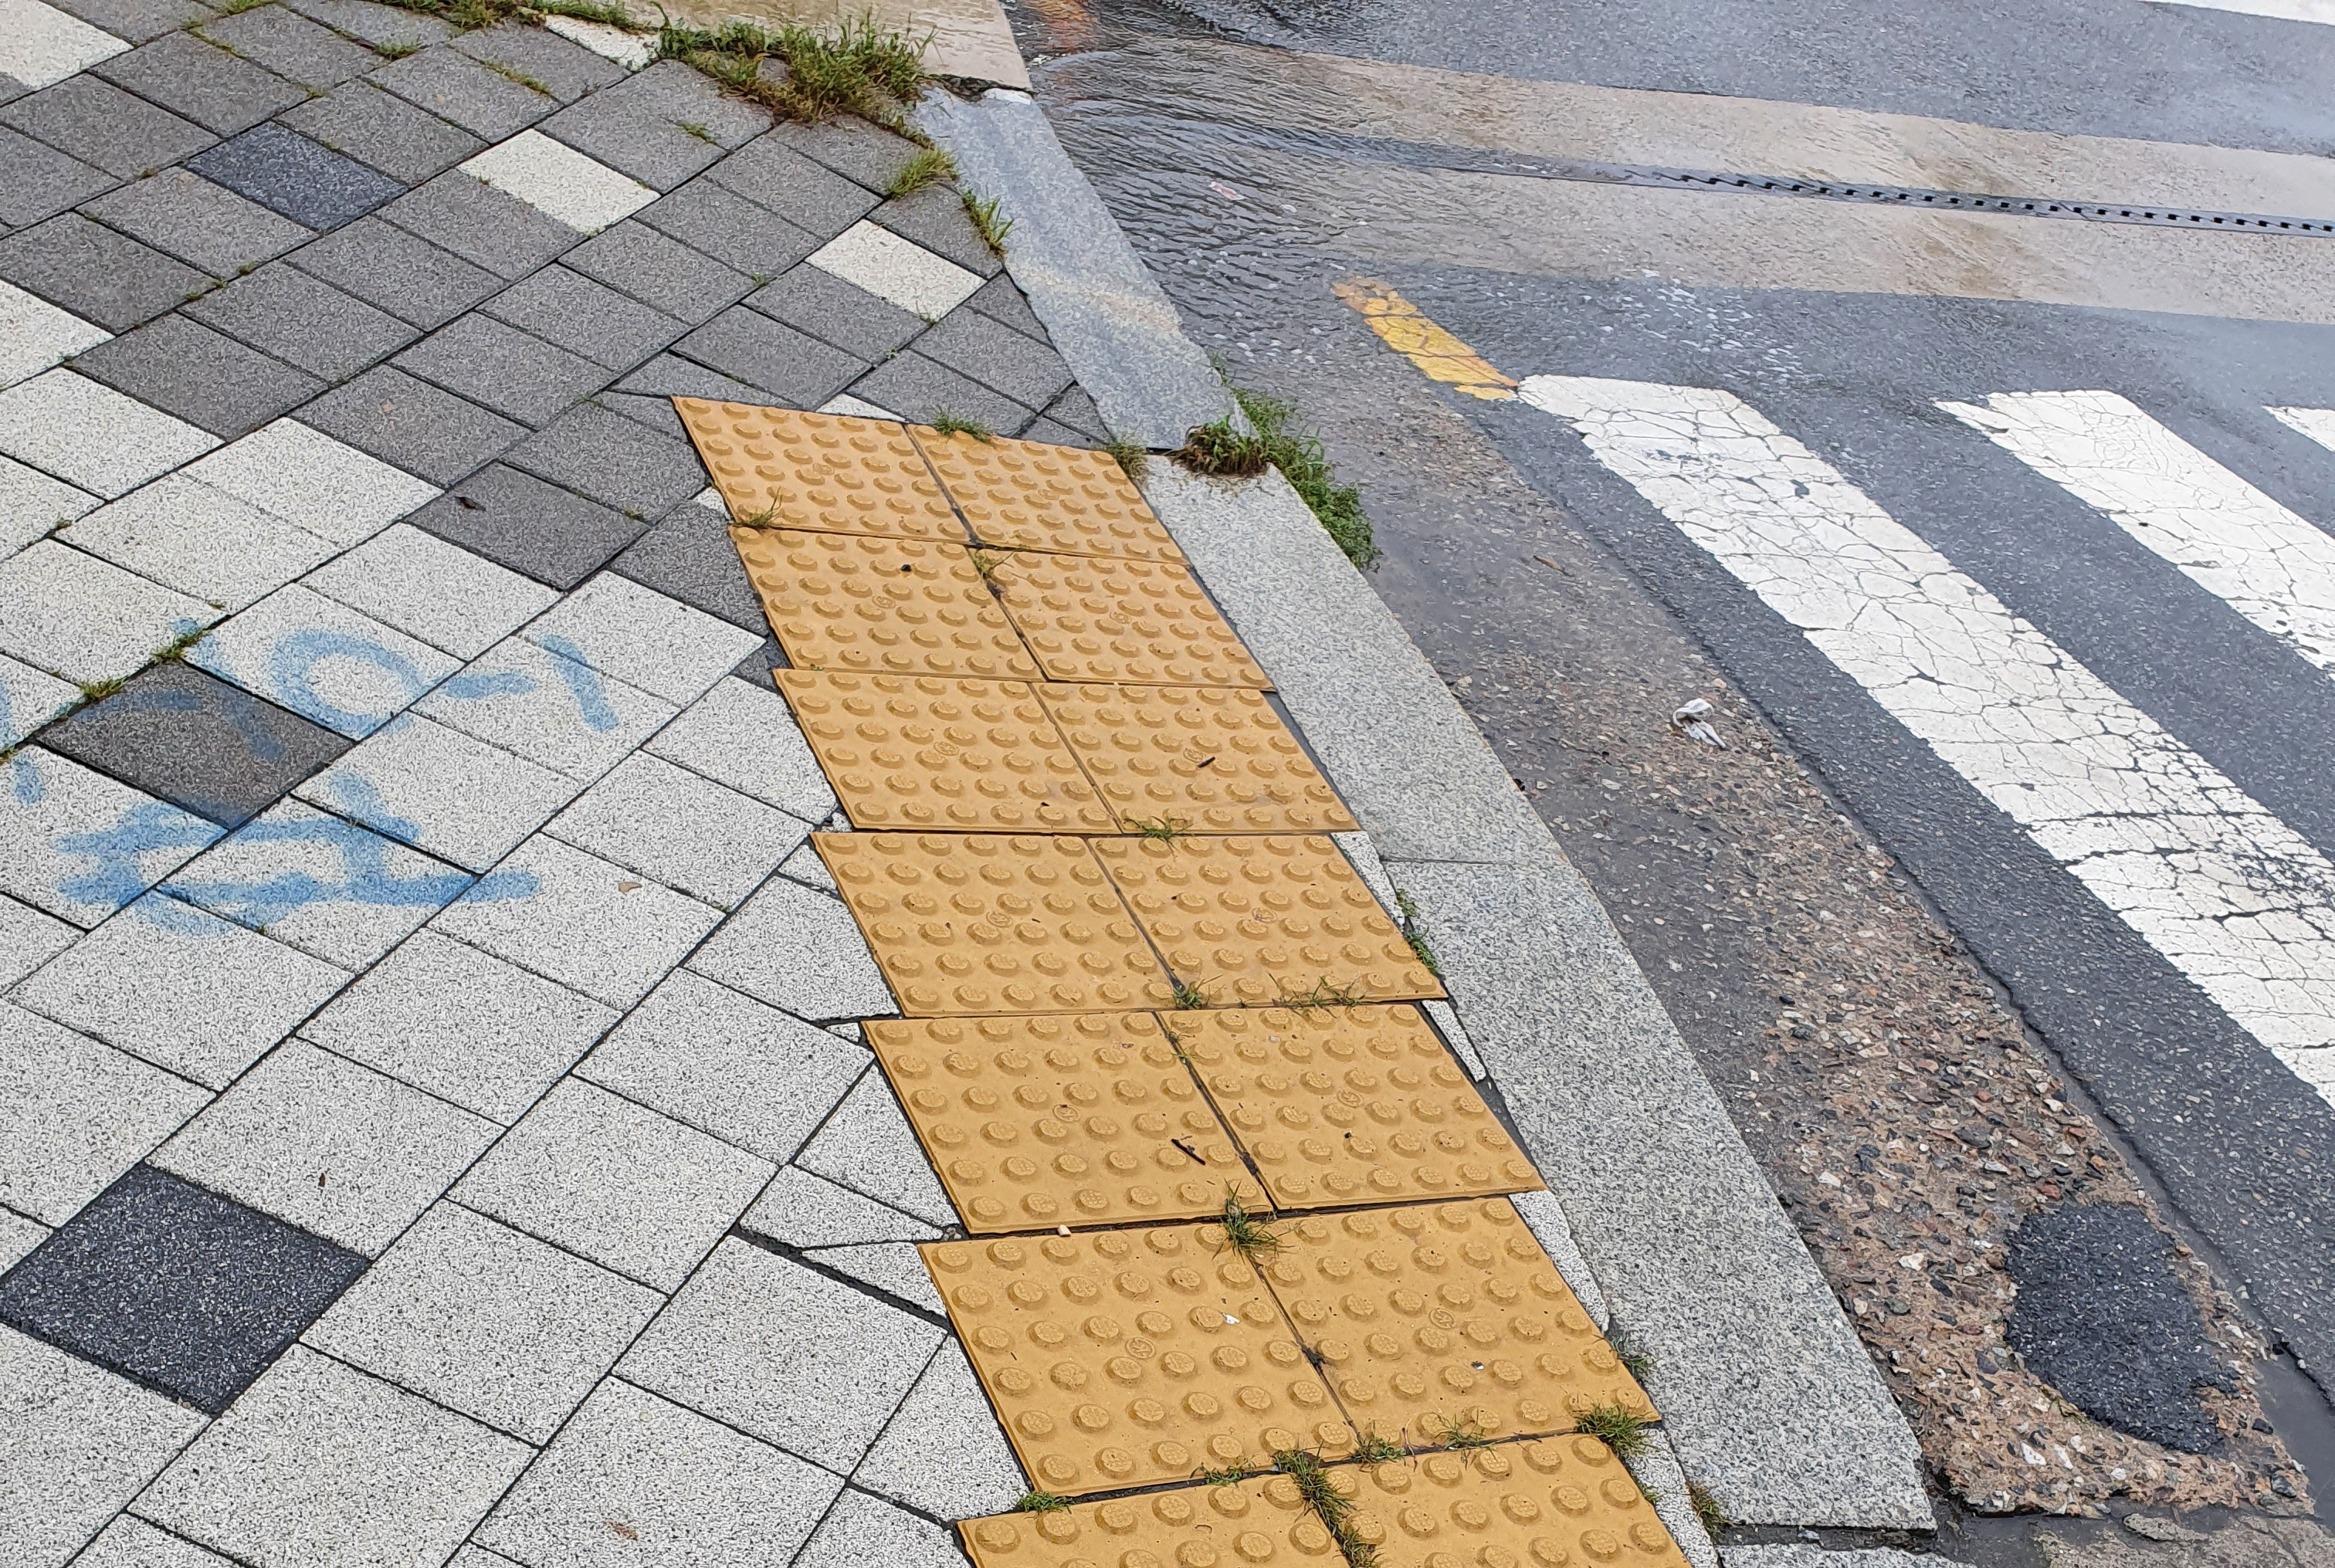warningBlock: (940, 1230, 1315, 1465), (901, 1010, 1273, 1195), (1271, 1218, 1600, 1426), (1104, 854, 1385, 1029), (1041, 682, 1306, 865), (793, 662, 1075, 826), (1206, 1024, 1462, 1204), (751, 502, 985, 686), (872, 838, 1129, 999), (971, 527, 1220, 691), (683, 396, 933, 551), (933, 429, 1132, 551)
